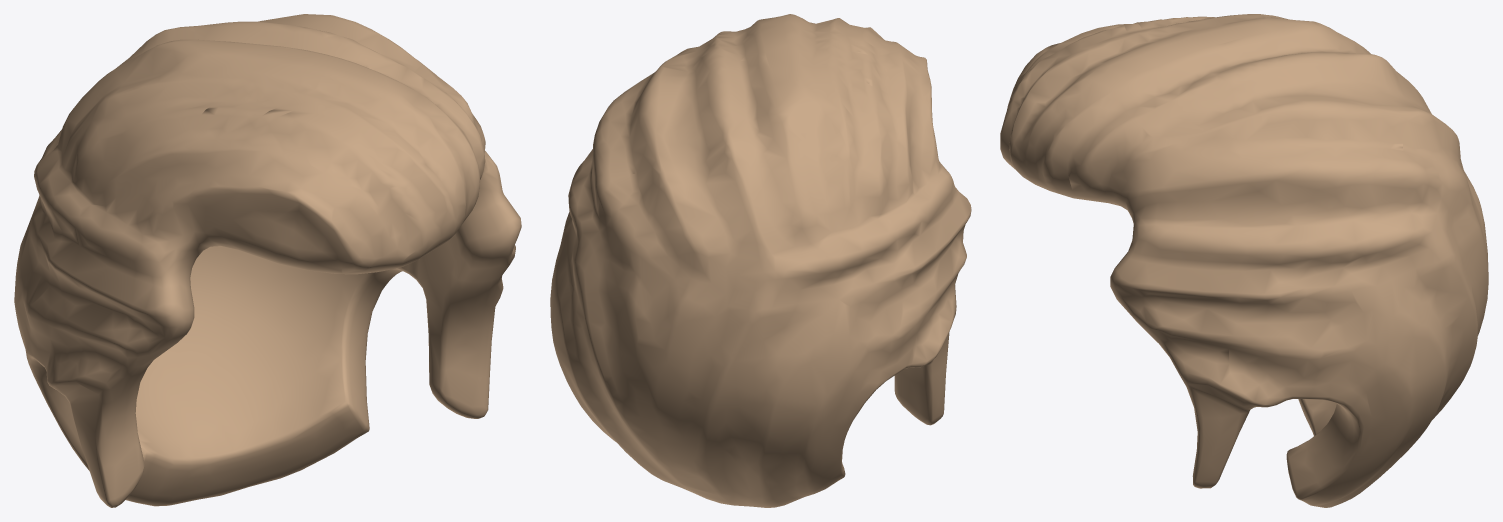
Rendered from hair-7-5723d946.glb.
3 renders of one model, left to right at view 1: azimuth 30°, elevation 25°; view 2: azimuth 150°, elevation 25°; view 3: azimuth 270°, elevation 25°, orthographic. The views are drawn at different scales.
Visible parts, largest first — view 1: Geo_White_Old_Male_Hair_7.001; view 2: Geo_White_Old_Male_Hair_7.001; view 3: Geo_White_Old_Male_Hair_7.001.
Part boxes in pixels (box(x1,y1,x2,y2)): Geo_White_Old_Male_Hair_7.001: box(14, 14, 521, 507); Geo_White_Old_Male_Hair_7.001: box(550, 14, 971, 507); Geo_White_Old_Male_Hair_7.001: box(1000, 14, 1488, 507).
Size of the model in its own units: 1.47 by 1.61 by 1.59.
